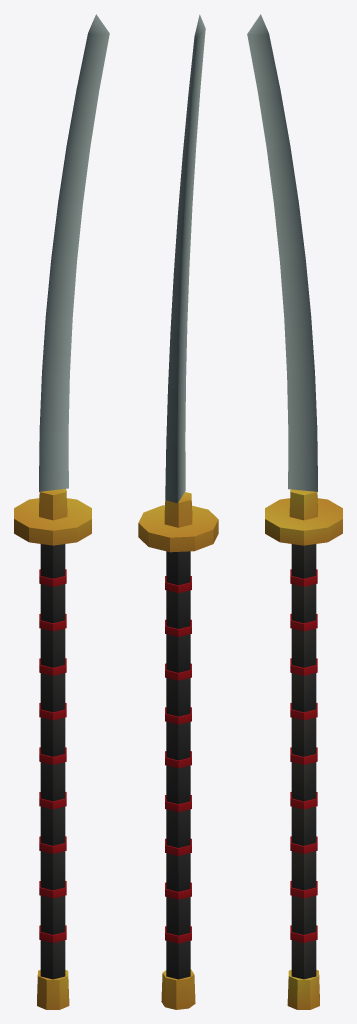
The model's file is polearm_common.glb.
The picture shows the model from 3 angles, left to right: view 1: azimuth 90°, elevation 25°; view 2: azimuth 150°, elevation 25°; view 3: azimuth 270°, elevation 25°; orthographic projection.
Parts seen in each view (by area): view 1: polearm_common; view 2: polearm_common; view 3: polearm_common.
Part boxes in pixels (x1,y1,x2,y2): polearm_common: [14, 14, 109, 1009]; polearm_common: [138, 14, 218, 1009]; polearm_common: [247, 14, 342, 1009].
Size of the model in its own units: 15 by 200 by 17.53.
